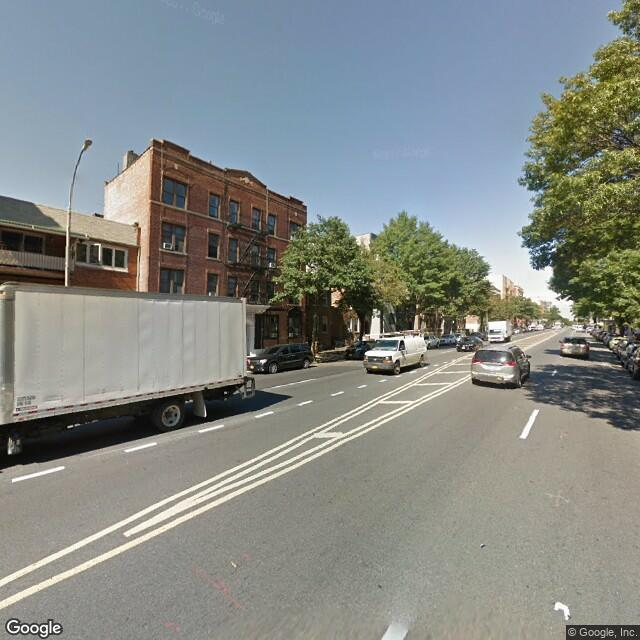litter: (551, 600, 572, 620), (223, 559, 238, 571)
